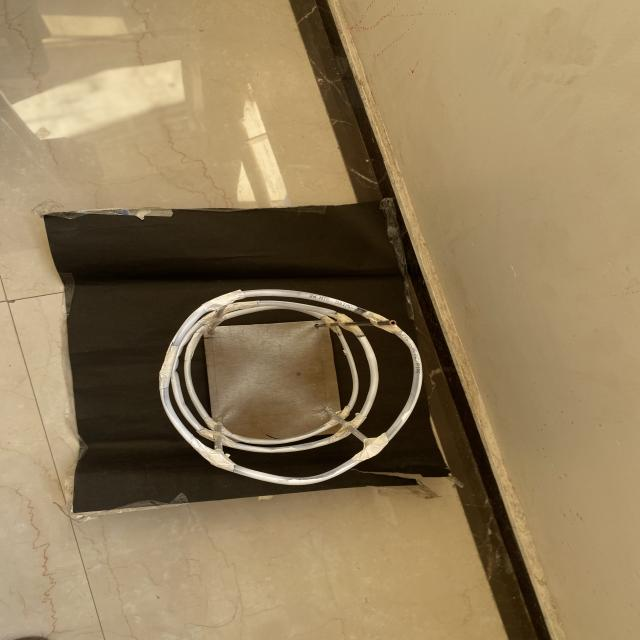silo: (155, 288, 419, 487)
